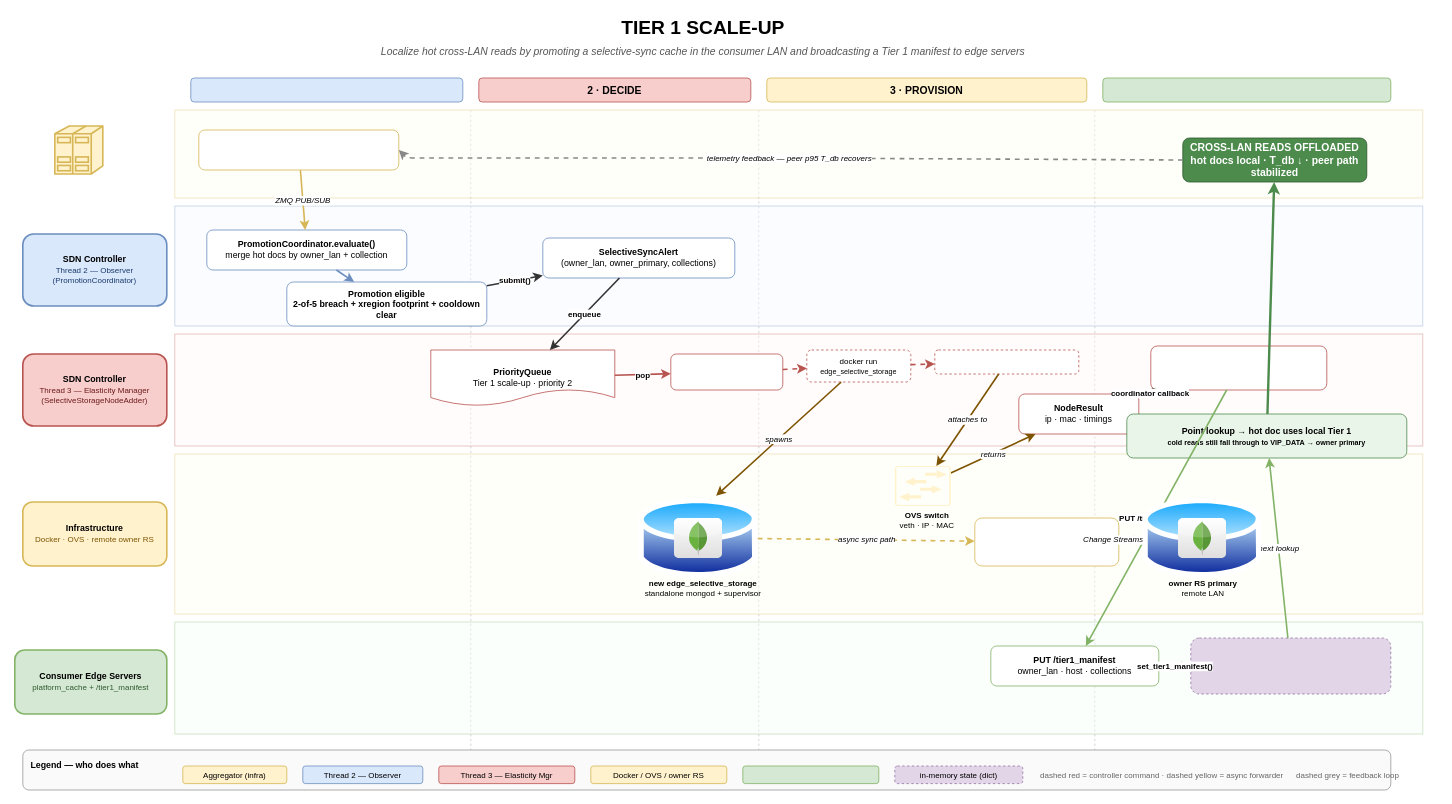
The diagram is 1452 pixels wide and 804 high, and some of its shapes have lost their labels. The shapes that lost their labels are listed below. From the top down, each one's box as (x1, y1, x2, y2) in pixels, then its label:
(190, 77, 463, 102): 1 · DETECT
(1102, 77, 1391, 102): 4 · INTEGRATE
(54, 125, 103, 174): Aggregator container · per LAN
(198, 129, 399, 170): TelemetrySummary p95 T_db per owner LAN + access counters
(670, 353, 783, 390): Dispatch → SelectiveStorageNodeAdder
(934, 349, 1079, 374): add_selective_network_node.sh
(1150, 345, 1327, 390): on_spawned() ACTIVE + broadcast first manifest
(974, 517, 1119, 566): ForwarderWorker(s) Change Streams + $match resume tokens on disk
(1190, 637, 1391, 694): Tier 1 manifest registry owner_lan → host + hot_doc_ids
(742, 765, 879, 784): Consumer edge servers
